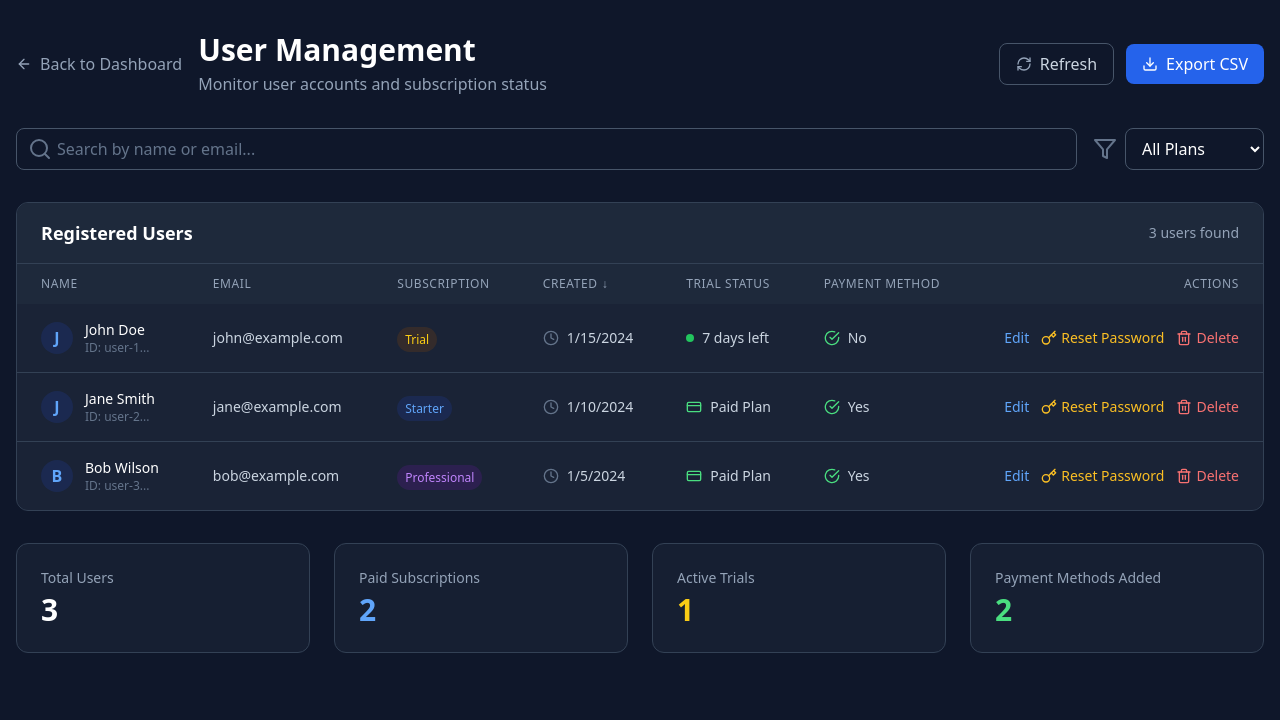
Test: UserDashboard Component › Edit User Modal › should open edit modal when clicking Edit button
Expected: the text "John Doe" is shown, [85,320,150,340]
Click the button "Edit" in the row of "John Doe" at (1017, 338), box [1004,328,1029,348]
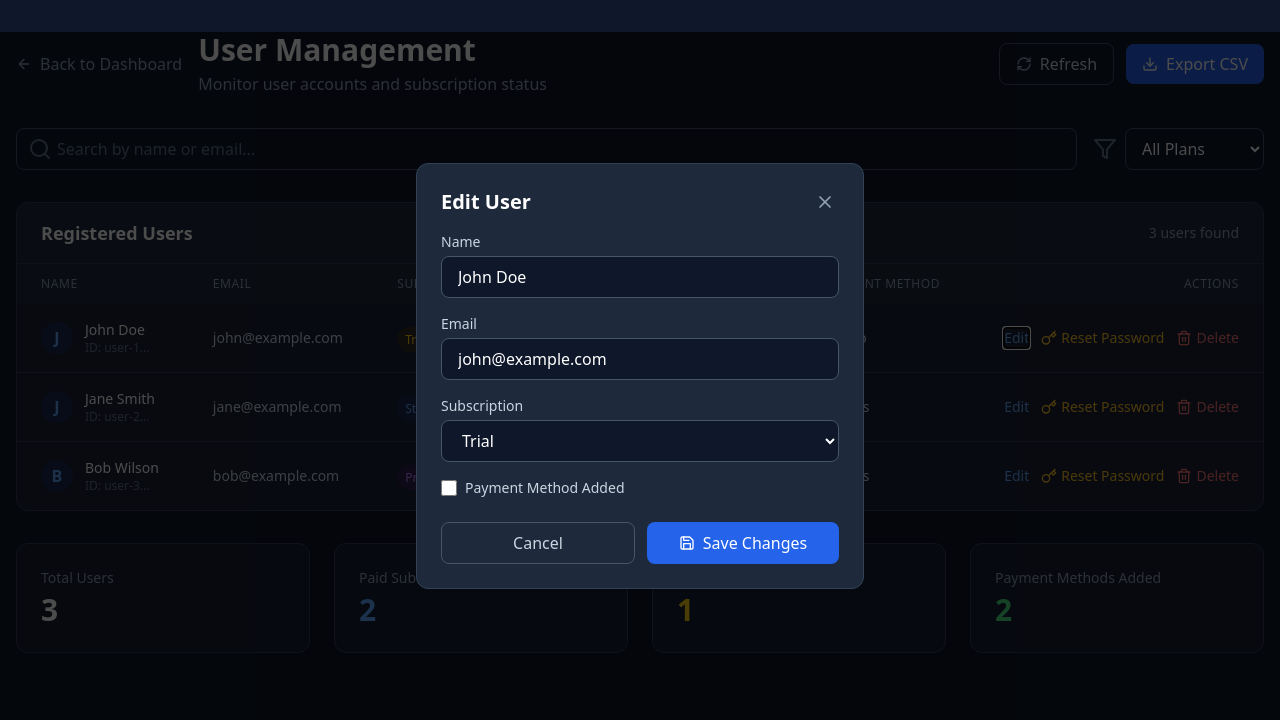
Expected: the heading "Edit User" is shown, [441,188,531,216]
